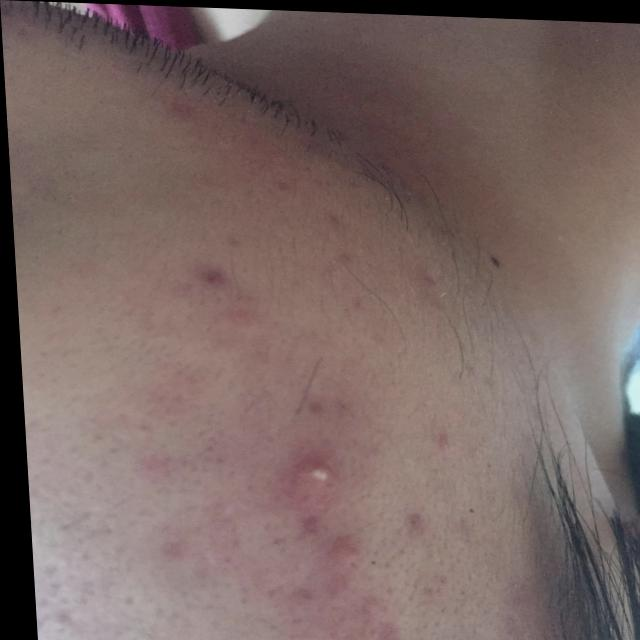blackheads: (264, 432, 361, 518)
